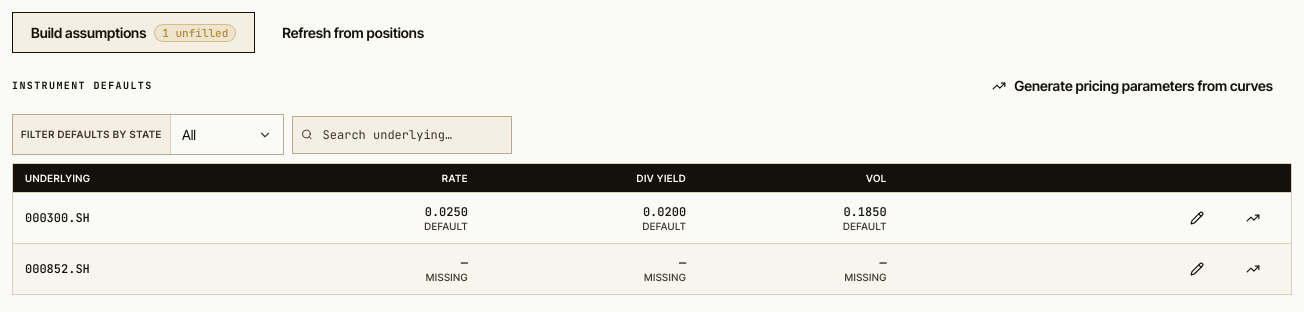
Test: defaults grid filters › search narrows the grid to matching underlyings
The width and height of the screenshot is (1304, 312).
Step 1. Type "000300" into the search field named "search defaults" → (412, 134), box left=321, top=124, right=503, bottom=144
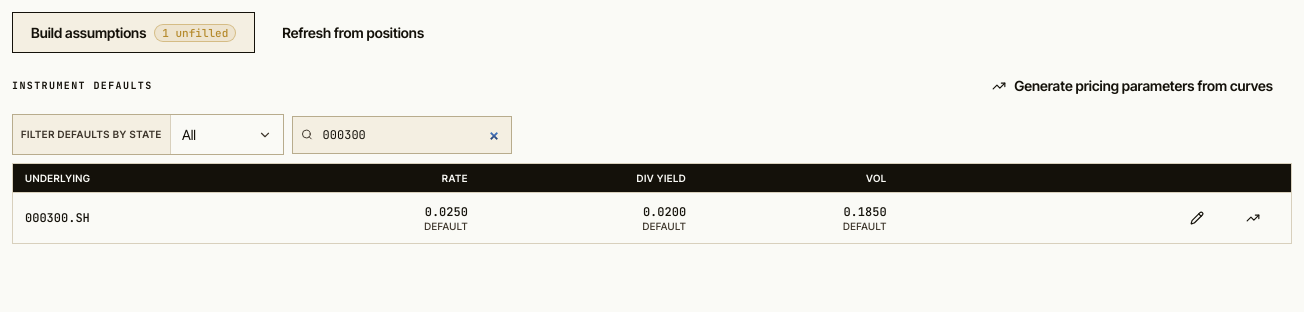
Expected: the text "000300.SH" is shown, left=12, top=192, right=279, bottom=244
Expected: the text "000852.SH" is gone
